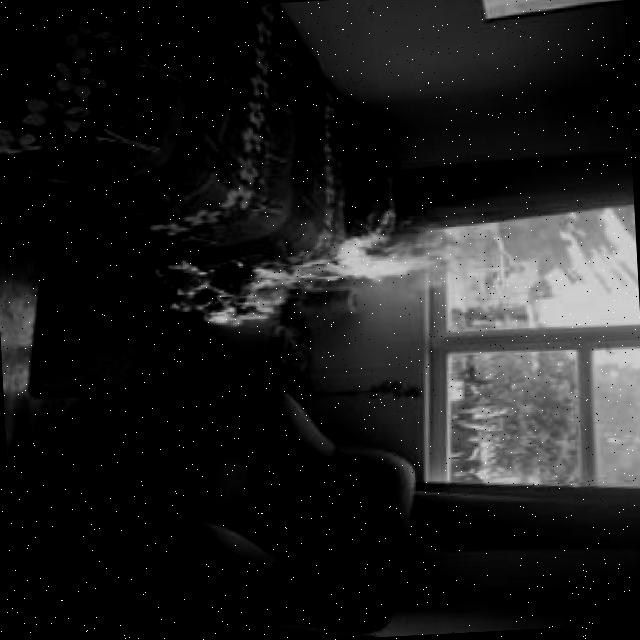fire: (167, 223, 465, 330)
